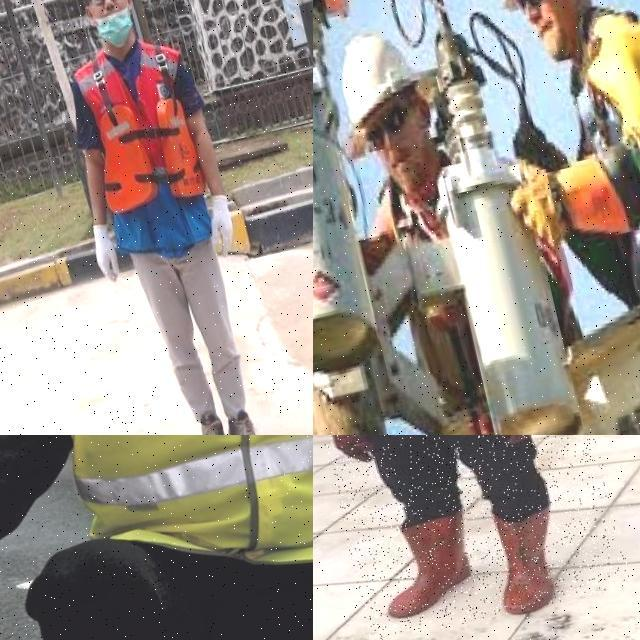boots: (368, 511, 484, 620), (483, 506, 573, 618), (221, 403, 274, 435), (185, 404, 233, 435)
helmet: (321, 9, 449, 142)
vest: (16, 435, 313, 631), (66, 33, 222, 266), (541, 0, 640, 287)
